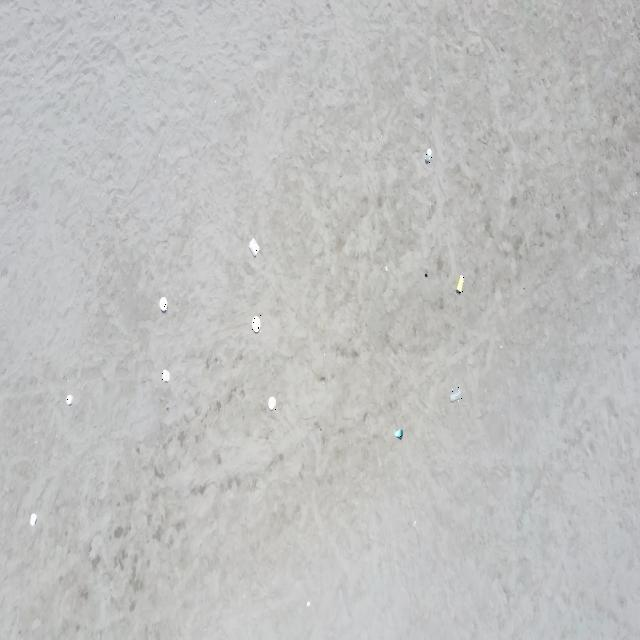take-away-containers: (249, 237, 259, 258), (252, 315, 261, 333), (30, 512, 38, 526), (160, 297, 168, 311), (268, 396, 276, 410), (162, 369, 170, 382), (66, 394, 73, 406)
takeaway-cup: (449, 387, 462, 402), (457, 274, 464, 294), (425, 148, 432, 163), (394, 428, 403, 439)
